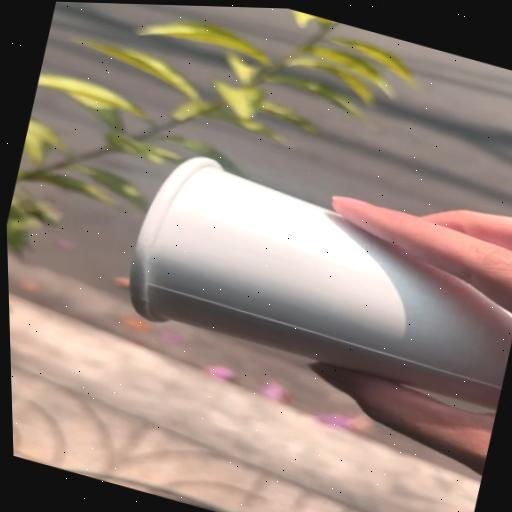Ly_giay: (131, 157, 512, 409)
